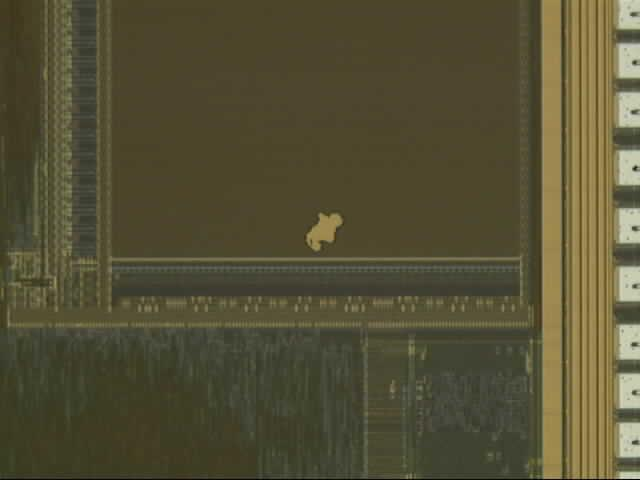BLOCK ETCH: (305, 207, 349, 256)
